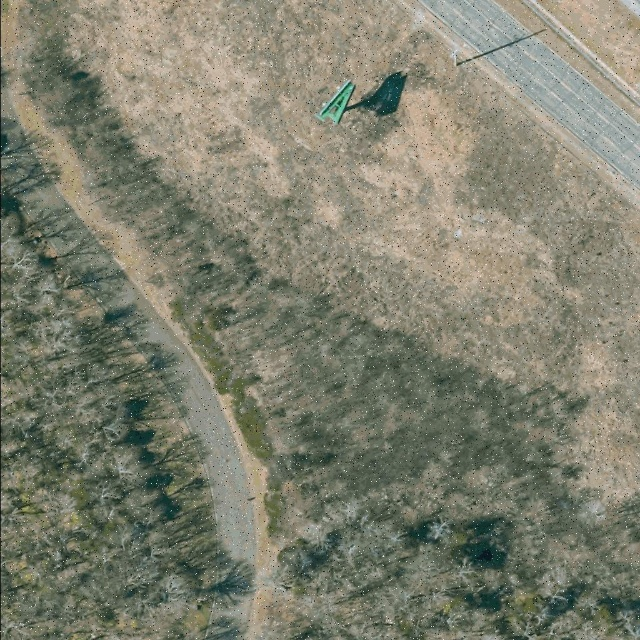vegetation: (23, 48, 640, 640), (0, 122, 217, 640)
